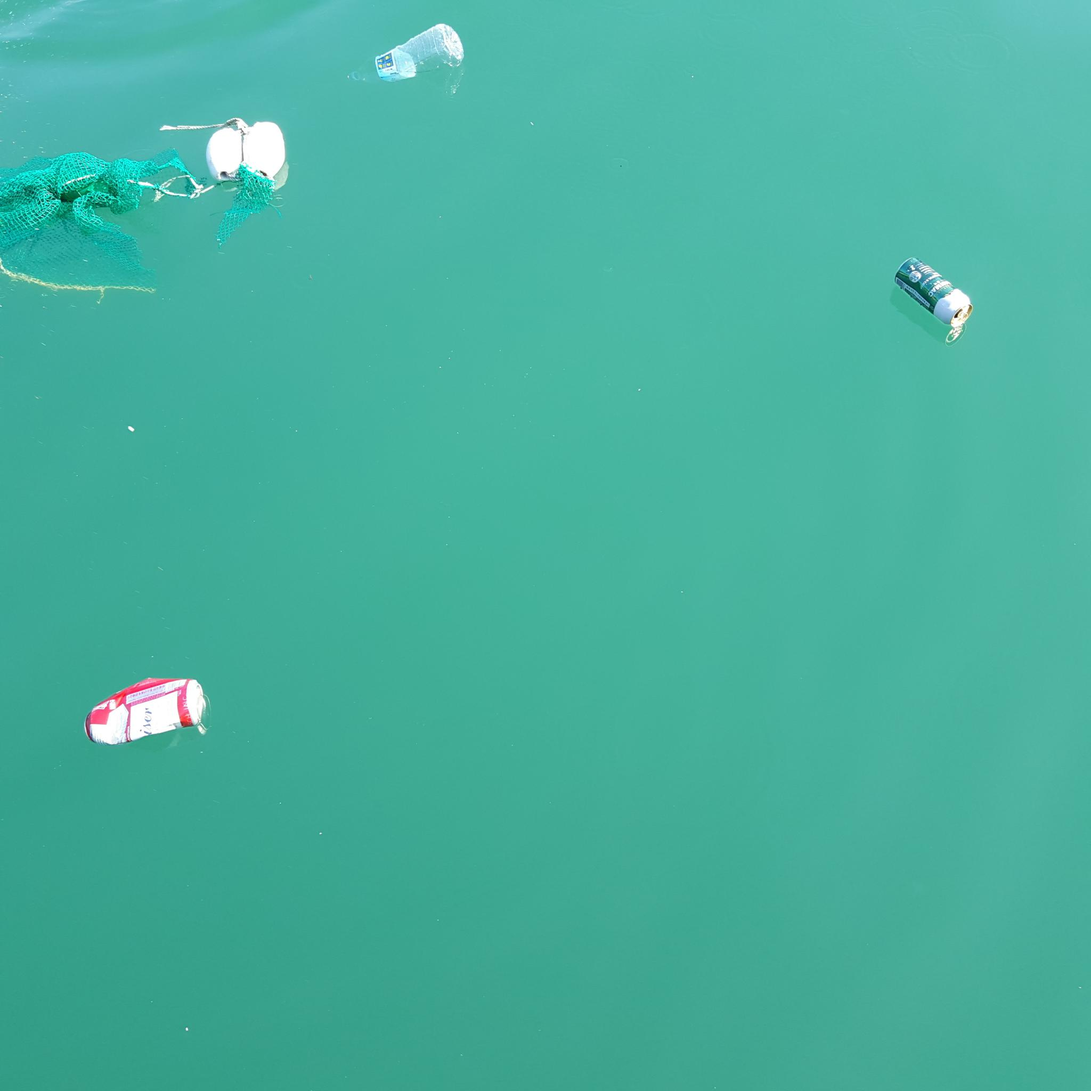sampah_terapung: (1, 148, 283, 294), (84, 678, 204, 746), (347, 24, 465, 83), (894, 257, 973, 328), (242, 122, 286, 178), (140, 176, 223, 203), (206, 128, 244, 182), (160, 118, 249, 132)
